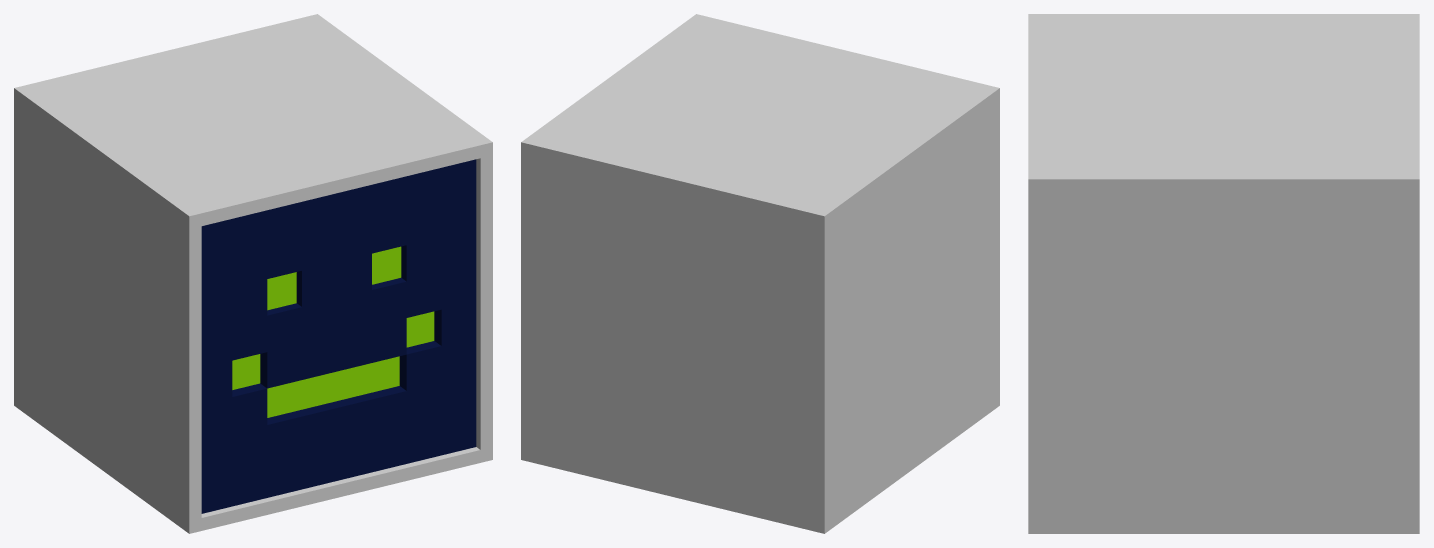
The model's file is bob.fbx.
The picture shows the model from 3 angles, left to right: view 1: azimuth 30°, elevation 25°; view 2: azimuth 150°, elevation 25°; view 3: azimuth 270°, elevation 25°; orthographic projection. The views are drawn at different scales.
Visible parts, largest first — view 1: Cube, Cube.001, Cube.002; view 2: Cube; view 3: Cube.
Boxes of the visible parts, left/top/right/bottom form: Cube: left=14, top=14, right=492, bottom=533; Cube.001: left=201, top=159, right=476, bottom=513; Cube.002: left=232, top=245, right=441, bottom=424; Cube: left=521, top=14, right=999, bottom=533; Cube: left=1028, top=14, right=1419, bottom=533.
Bounding box in the file's own units: 200 × 200 × 200.
